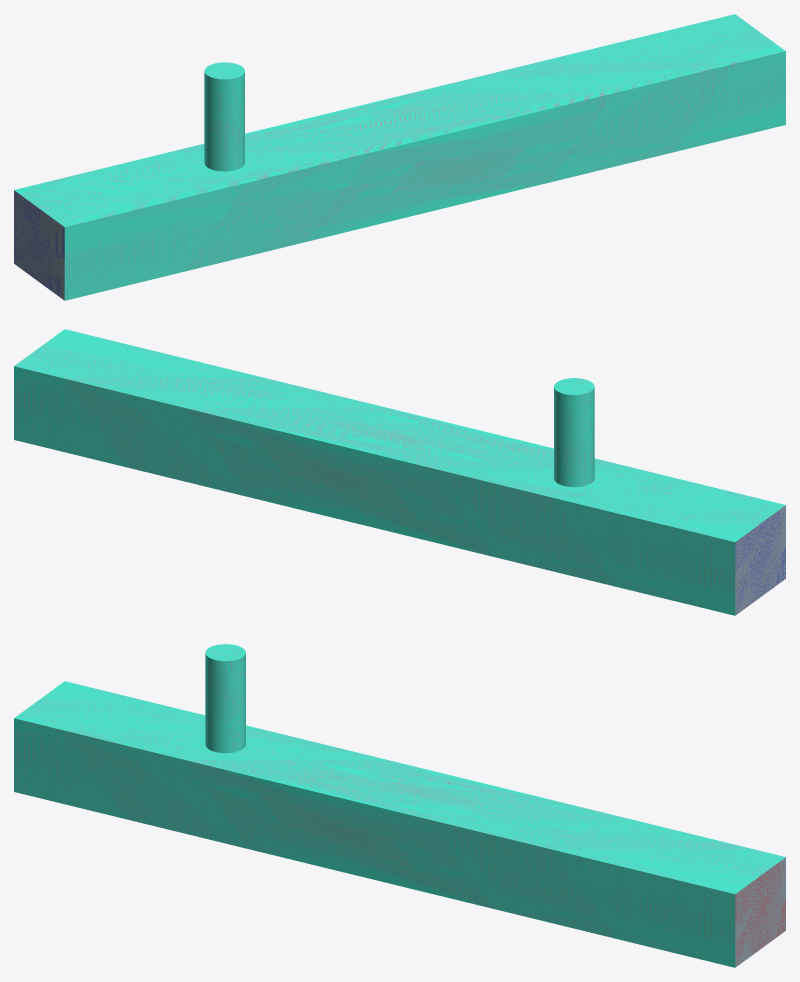
File: BeamWithHeatSource.obj
3 renders of one model, top to bottom at view 1: azimuth 30°, elevation 25°; view 2: azimuth 150°, elevation 25°; view 3: azimuth 330°, elevation 25°, orthographic.
Visible parts, largest first — view 1: Mesh2 Model; view 2: Mesh2 Model; view 3: Mesh2 Model.
Part boxes in pixels (x1=…): Mesh2 Model: x1=14, y1=14, x2=785, y2=300; Mesh2 Model: x1=14, y1=329, x2=785, y2=615; Mesh2 Model: x1=14, y1=644, x2=785, y2=967.
Size of the model in its own units: 0.41 by 0.09 by 0.05.
